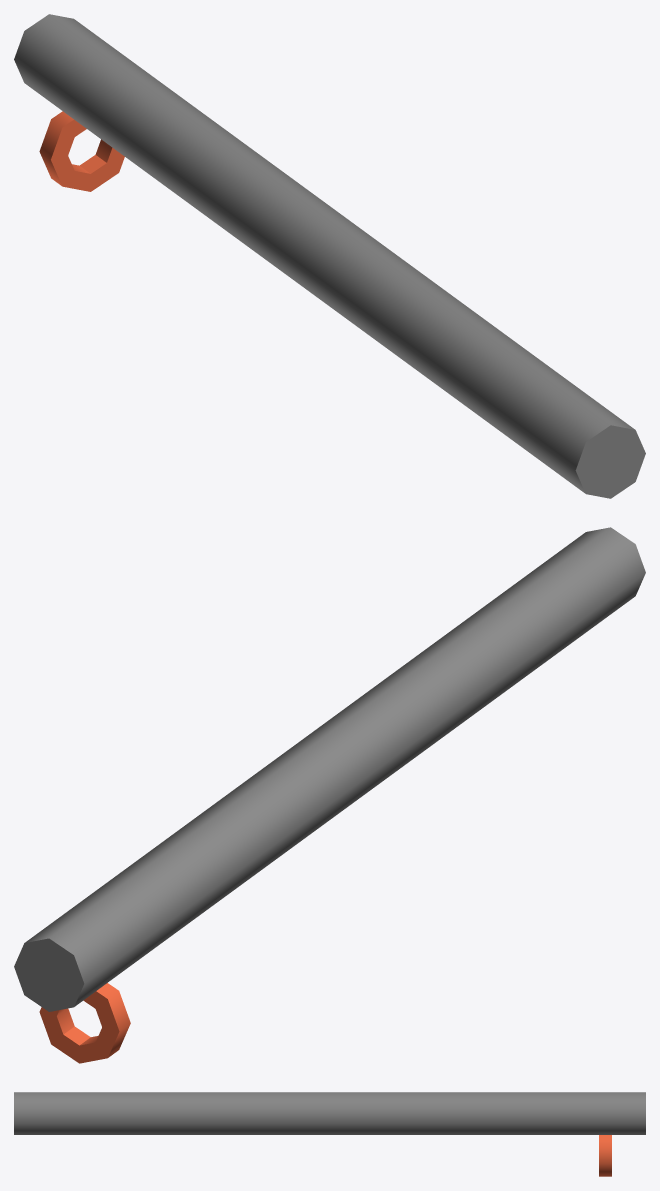
The model's file is rod_main_2.FBX.
3 renders of one model, top to bottom at view 1: azimuth 30°, elevation 25°; view 2: azimuth 150°, elevation 25°; view 3: azimuth 270°, elevation 25°, orthographic. The views are drawn at different scales.
Parts seen in each view (by area): view 1: rod_main_2; view 2: rod_main_2; view 3: rod_main_2.
Boxes of the visible parts, x1,y1,x2,y2 form: rod_main_2: [14, 14, 645, 498]; rod_main_2: [14, 527, 645, 1063]; rod_main_2: [14, 1092, 645, 1176].
Bounding box in the file's own units: 2.02 × 3.56 × 24.58.
